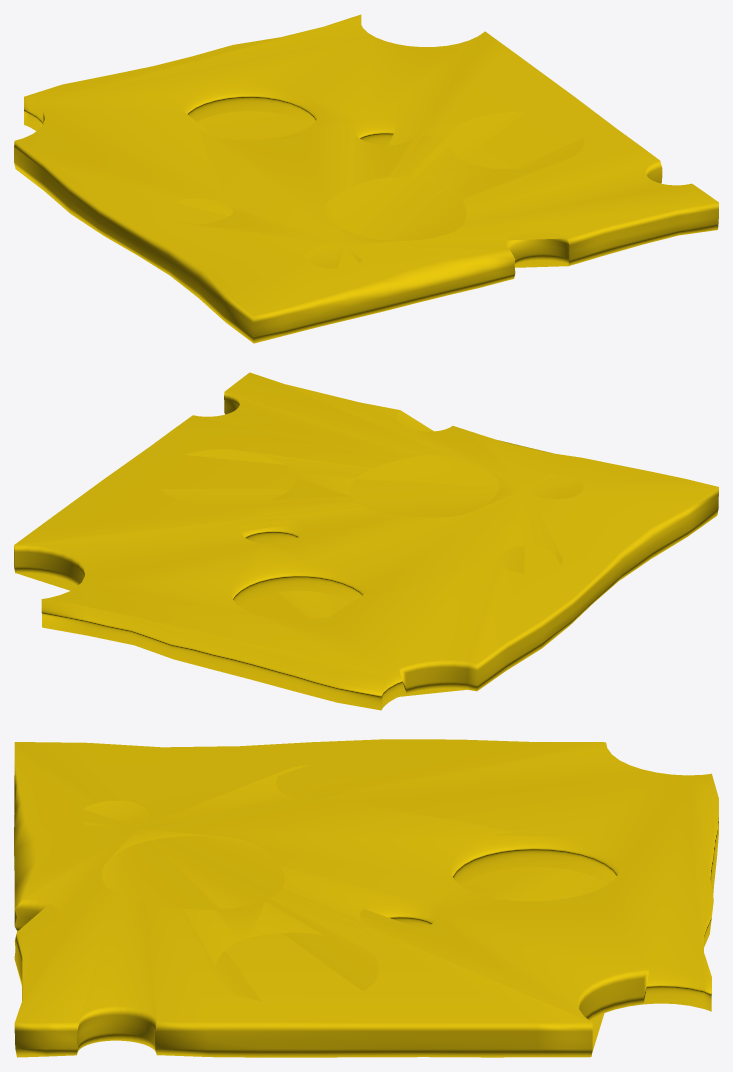
The model's file is Cheese2.fbx.
3 views of the same model, one above another, from view 1: azimuth 30°, elevation 25°; view 2: azimuth 150°, elevation 25°; view 3: azimuth 270°, elevation 25° (orthographic). The views are drawn at different scales.
Visible parts, largest first — view 1: Cheese Slice 3; view 2: Cheese Slice 3; view 3: Cheese Slice 3.
Boxes of the visible parts, x1,y1,x2,y2 form: Cheese Slice 3: (14,14,718,343); Cheese Slice 3: (14,372,718,710); Cheese Slice 3: (14,739,718,1057).
Bounding box in the file's own units: 261 × 15.47 × 274.
